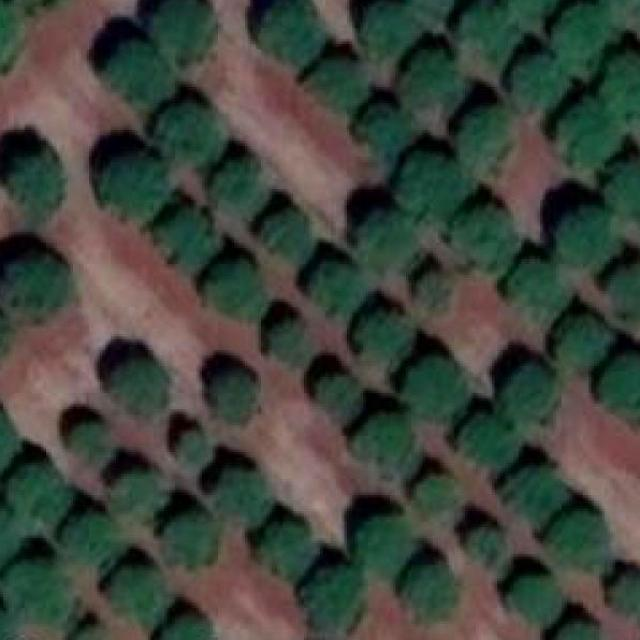Tree: (558, 98, 621, 170), (556, 7, 619, 76), (459, 1, 516, 76), (1, 257, 66, 321), (452, 207, 517, 270), (401, 157, 468, 216), (403, 51, 465, 114), (459, 414, 518, 479), (103, 160, 168, 219), (352, 418, 417, 477), (3, 565, 66, 624), (261, 0, 320, 63), (508, 465, 567, 527), (107, 48, 170, 106), (556, 208, 616, 268), (8, 466, 68, 525), (304, 570, 363, 629), (502, 366, 560, 425), (157, 213, 216, 270), (511, 264, 568, 323), (12, 152, 60, 222), (551, 514, 608, 572), (108, 570, 166, 627), (161, 109, 223, 162), (360, 7, 422, 60), (356, 516, 412, 574), (511, 55, 565, 112), (304, 60, 363, 112), (154, 1, 210, 55), (313, 264, 366, 321), (408, 358, 460, 416), (460, 108, 506, 173), (361, 213, 418, 264), (213, 162, 266, 216), (211, 266, 264, 318), (258, 211, 309, 264), (358, 315, 411, 366), (602, 356, 640, 426), (406, 567, 457, 619), (559, 320, 608, 372), (264, 524, 313, 576), (114, 364, 167, 412), (361, 112, 414, 160), (508, 575, 559, 624), (213, 471, 264, 520), (66, 518, 122, 560), (604, 54, 640, 117), (168, 516, 214, 565), (111, 472, 162, 514), (214, 377, 256, 423), (403, 0, 464, 30), (316, 377, 358, 420), (608, 160, 640, 214), (272, 321, 309, 367), (156, 611, 214, 640), (0, 0, 23, 66), (612, 267, 640, 321), (506, 0, 562, 26), (465, 527, 503, 565), (417, 477, 454, 514), (0, 506, 16, 576), (610, 579, 640, 614), (73, 420, 103, 450), (416, 275, 444, 307), (593, 0, 640, 19), (553, 624, 605, 640), (0, 414, 12, 479), (178, 434, 205, 458), (0, 316, 9, 362), (73, 626, 102, 640)
